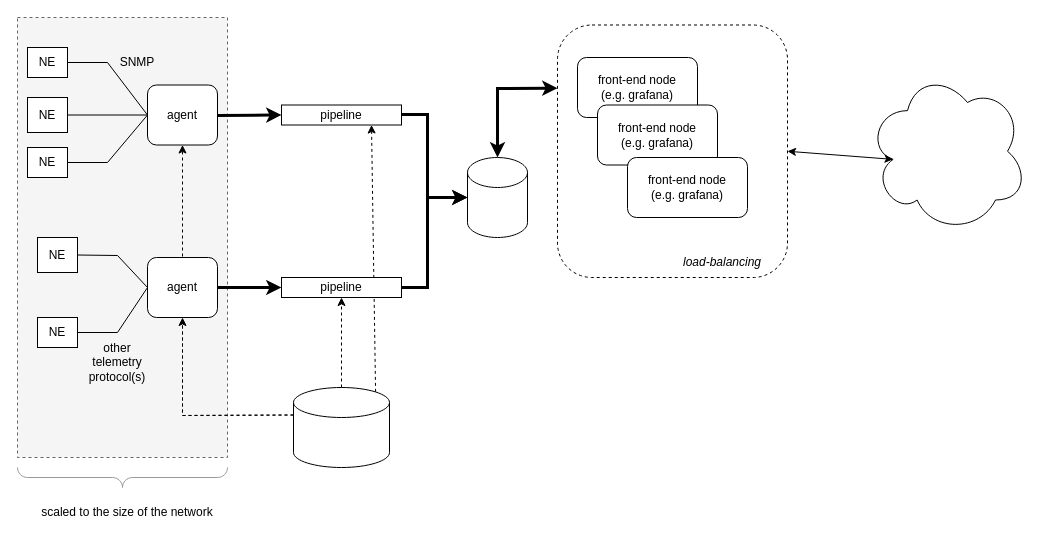
Some shapes in this 1045 by 545 pixel diagram are drawn without their labels. The centre of each missing label's shape, as x and y in pixels:
"business and service data" goes at (341,427).
"Internet" goes at (947,150).
"TSDB" goes at (497,197).
